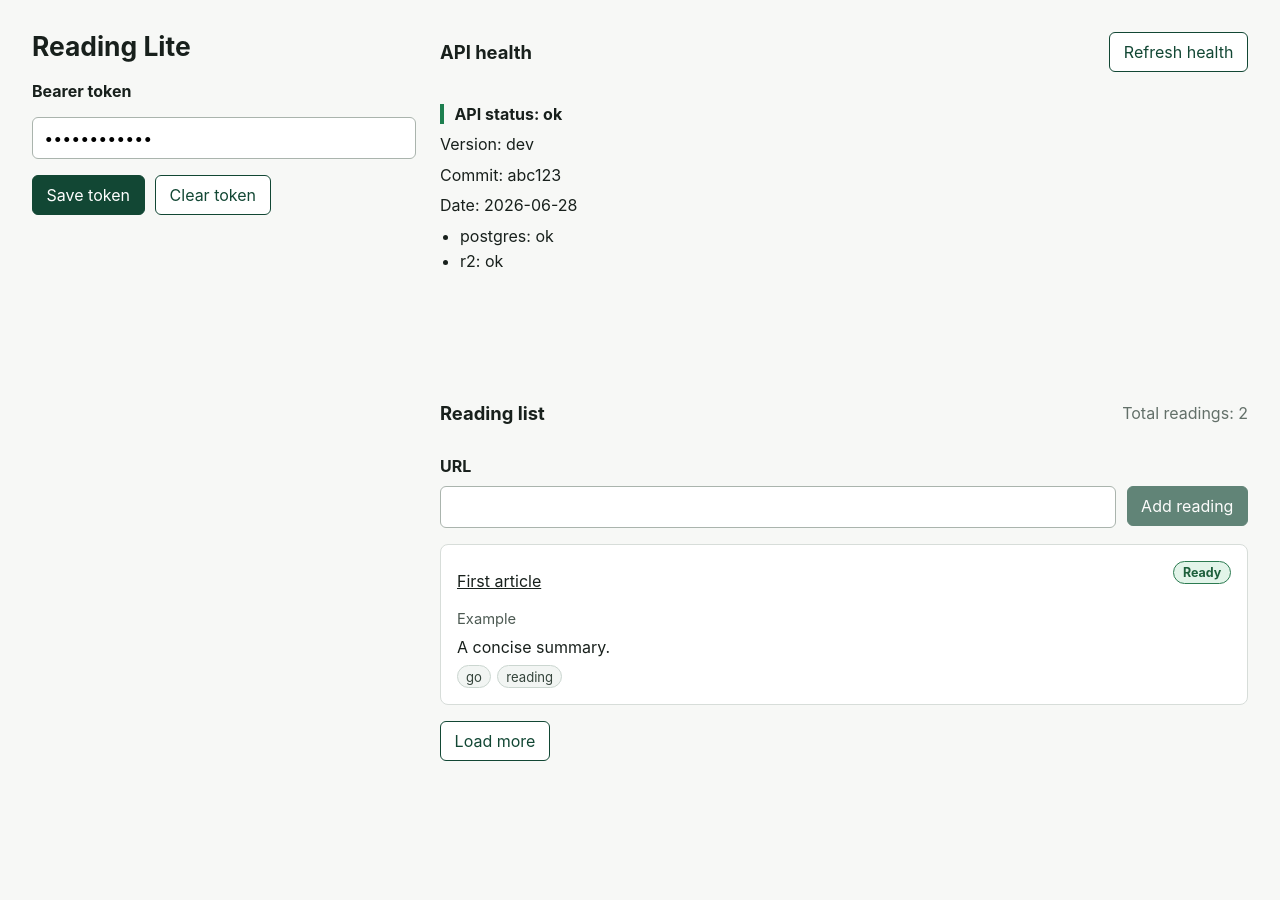
Test: App › keeps current readings and cursor usable when loading more fails
Expected: the button "First article" is shown, [457,561,541,601]
Click the button "Load more" at (495, 741), box [440,721,550,761]
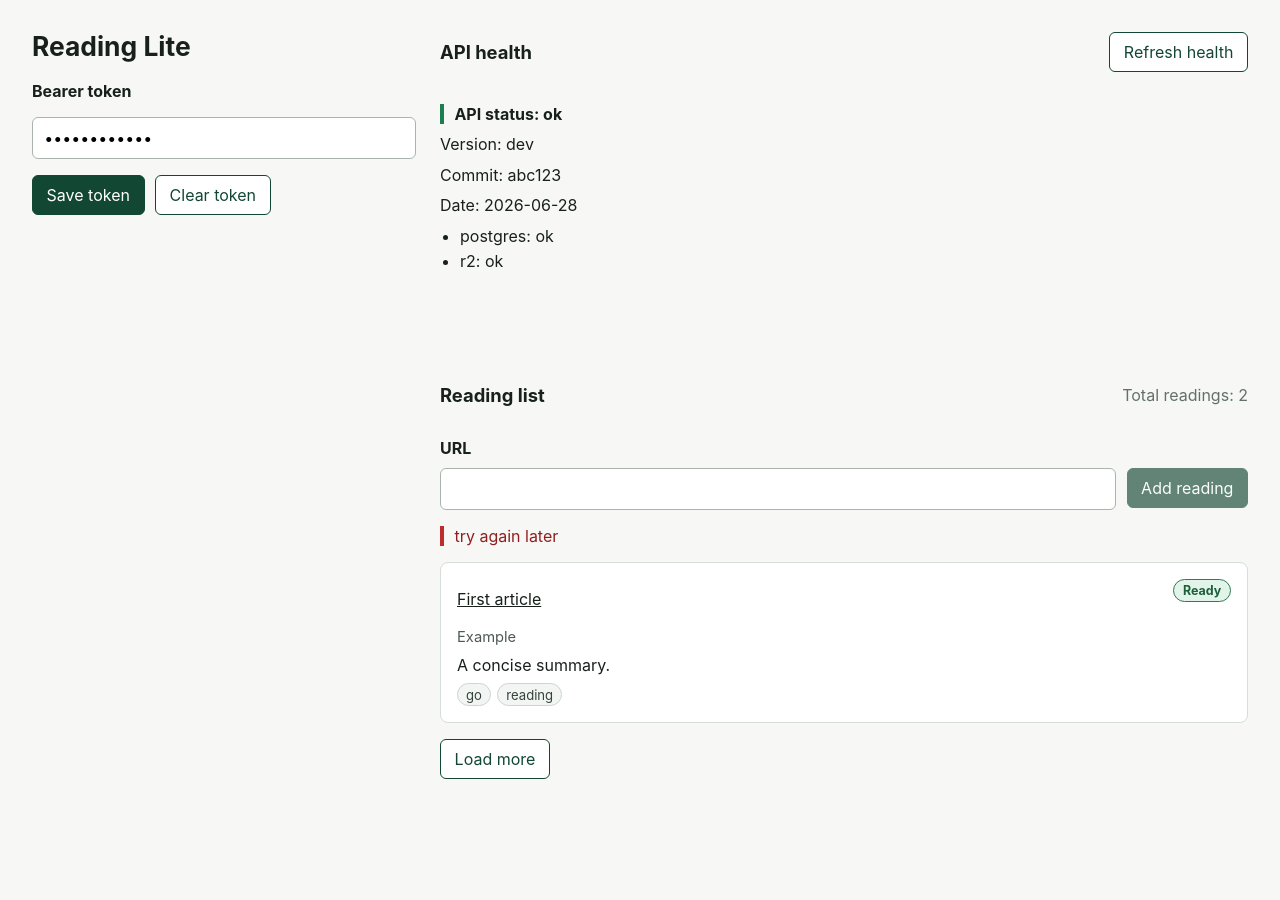
Expected: the button "First article" is shown, [457,579,541,619]
Expected: the text "try again later" is shown, [440,526,1248,546]
